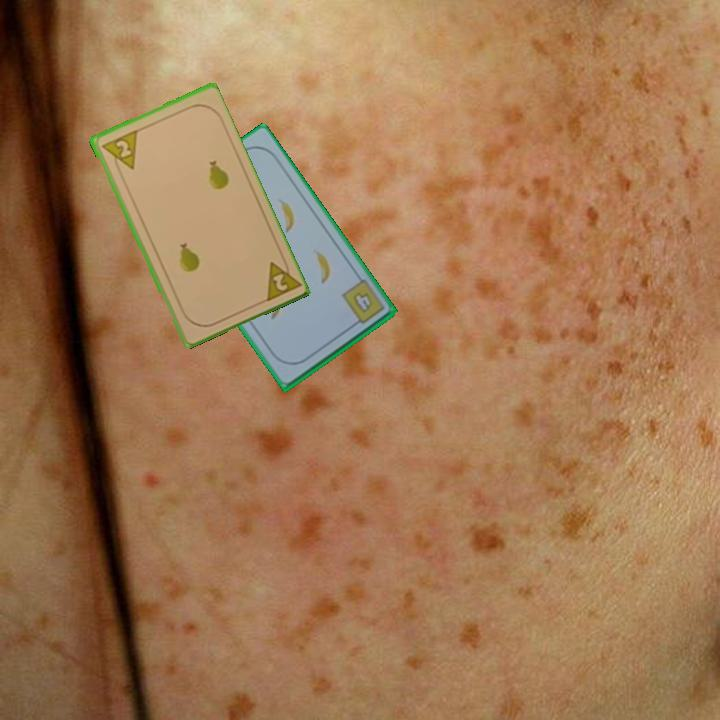2p: (260, 252, 302, 305), (96, 127, 140, 177)
4b: (338, 278, 387, 330)
